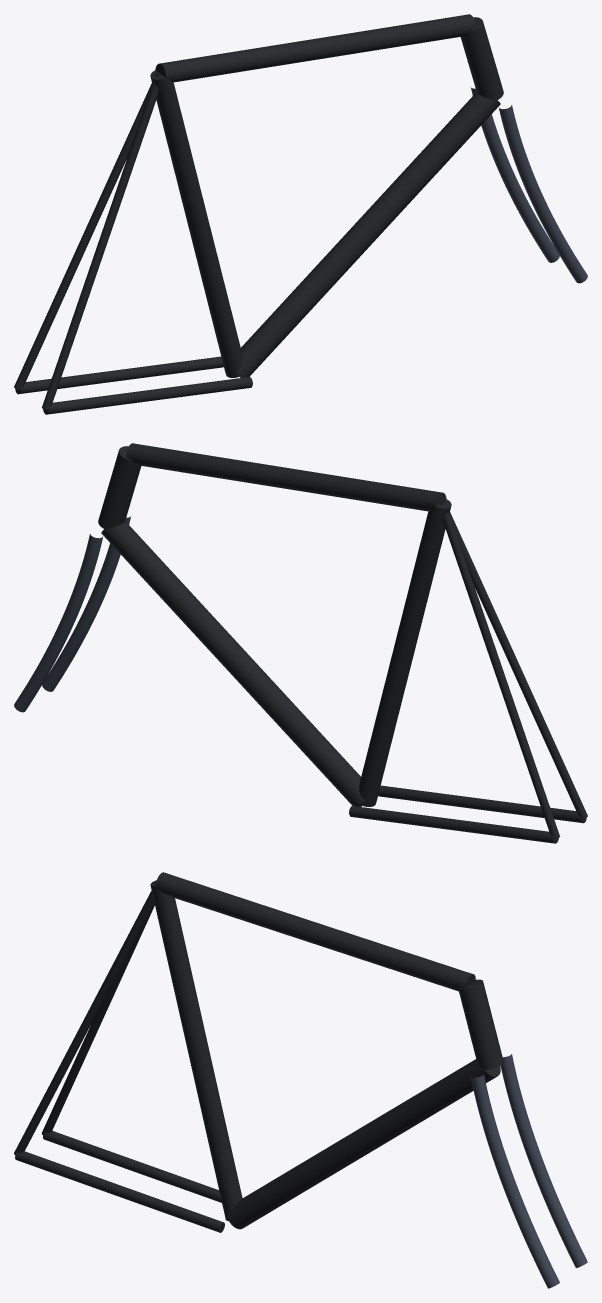
Rendered from dosnoventa-03-det-l.glb.
The picture shows the model from 3 angles, top to bottom: view 1: azimuth 30°, elevation 25°; view 2: azimuth 150°, elevation 25°; view 3: azimuth 330°, elevation 25°; orthographic projection.
Visible parts, largest first — view 1: paint_down, paint_top, paint_seat, paint_seatstay_0.045, paint_seatstay_-0.045, fork_0.045, paint_chainstay_0.045, paint_chainstay_-0.045, fork_-0.045, paint_head; view 2: paint_down, paint_top, paint_seat, paint_seatstay_-0.045, paint_seatstay_0.045, fork_-0.045, paint_chainstay_-0.045, paint_chainstay_0.045, fork_0.045, paint_head; view 3: paint_down, paint_top, paint_seat, fork_0.045, fork_-0.045, paint_seatstay_0.045, paint_chainstay_0.045, paint_head, paint_chainstay_-0.045, paint_seatstay_-0.045.
Boxes of the visible parts, x1,y1,x2,y2 form: paint_down: [237, 92, 500, 377]; paint_top: [155, 14, 475, 82]; paint_seat: [150, 70, 242, 377]; paint_seatstay_0.045: [42, 73, 162, 410]; paint_seatstay_-0.045: [14, 72, 159, 390]; fork_0.045: [498, 105, 587, 283]; paint_chainstay_0.045: [43, 377, 252, 414]; paint_chainstay_-0.045: [15, 356, 223, 394]; fork_-0.045: [471, 87, 559, 262]; paint_head: [460, 17, 503, 99]; paint_down: [101, 521, 364, 806]; paint_top: [126, 443, 446, 511]; paint_seat: [359, 499, 451, 806]; paint_seatstay_-0.045: [439, 502, 559, 839]; paint_seatstay_0.045: [442, 501, 587, 819]; fork_-0.045: [14, 534, 103, 712]; paint_chainstay_-0.045: [349, 806, 558, 843]; paint_chainstay_0.045: [378, 785, 586, 823]; fork_0.045: [42, 516, 130, 691]; paint_head: [98, 446, 141, 528]; paint_down: [226, 1059, 500, 1229]; paint_top: [155, 872, 475, 991]; paint_seat: [150, 880, 242, 1221]; fork_0.045: [470, 1074, 559, 1288]; fork_-0.045: [500, 1054, 587, 1267]; paint_seatstay_0.045: [14, 882, 155, 1154]; paint_chainstay_0.045: [15, 1151, 224, 1232]; paint_head: [458, 979, 503, 1069]; paint_chainstay_-0.045: [43, 1131, 221, 1202]; paint_seatstay_-0.045: [41, 904, 154, 1135].
Size of the model in its own units: 1.01 by 0.5961 by 0.112.
